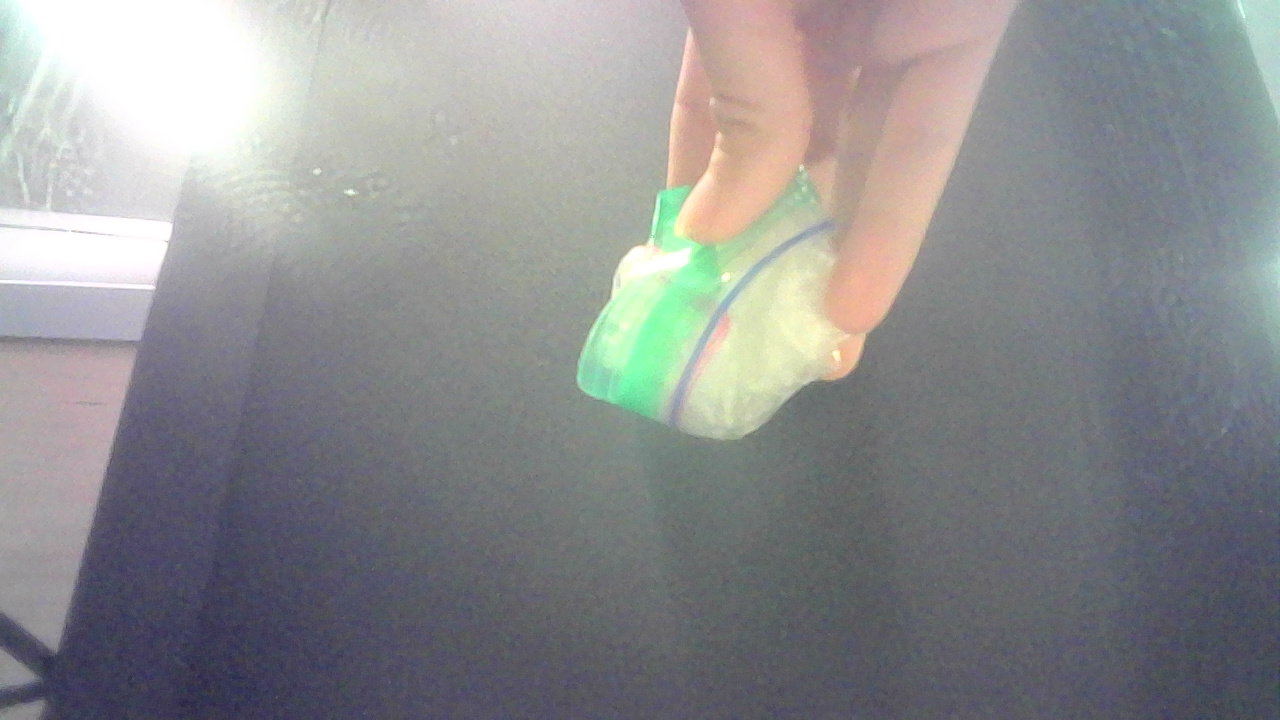Plastic_Recycling: (566, 144, 868, 461)
